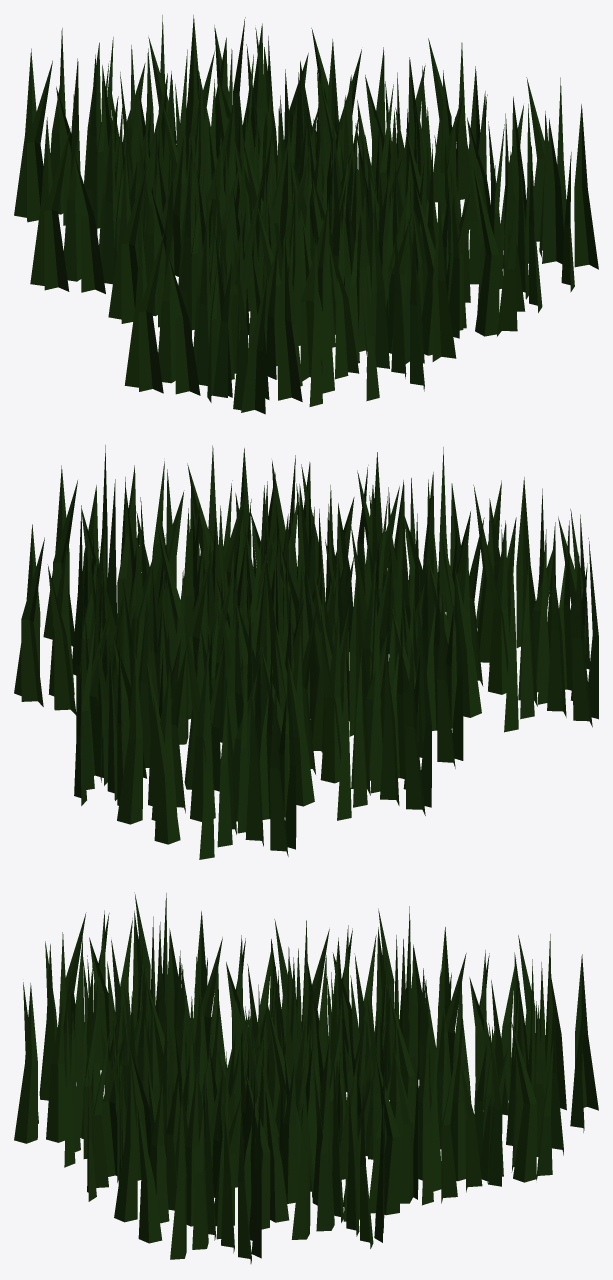
File: grass2.fbx
The picture shows the model from 3 angles, top to bottom: view 1: azimuth 30°, elevation 25°; view 2: azimuth 150°, elevation 25°; view 3: azimuth 270°, elevation 25°; orthographic projection. The views are drawn at different scales.
Visible parts, largest first — view 1: Plane.034; view 2: Plane.034; view 3: Plane.034.
Part boxes in pixels (bbox=[...]): Plane.034: bbox=[14, 15, 598, 414]; Plane.034: bbox=[14, 445, 598, 859]; Plane.034: bbox=[14, 892, 598, 1263].
Bounding box in the file's own units: 94 × 30.52 × 103.
